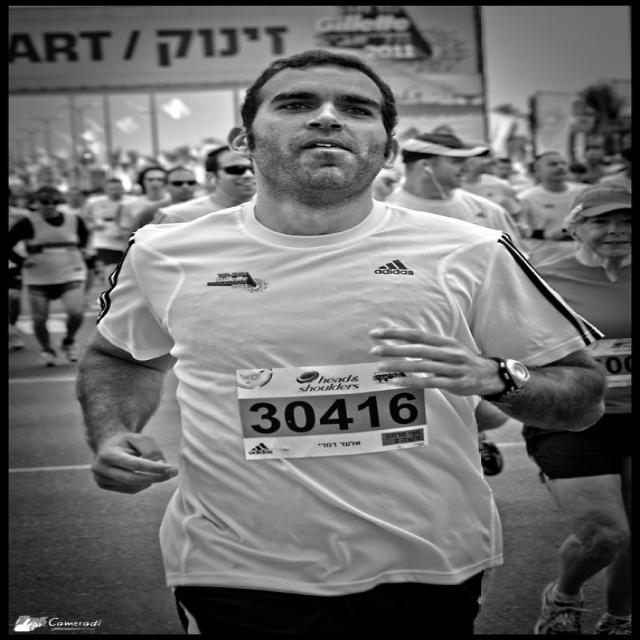Bib: (240, 397, 422, 439)
